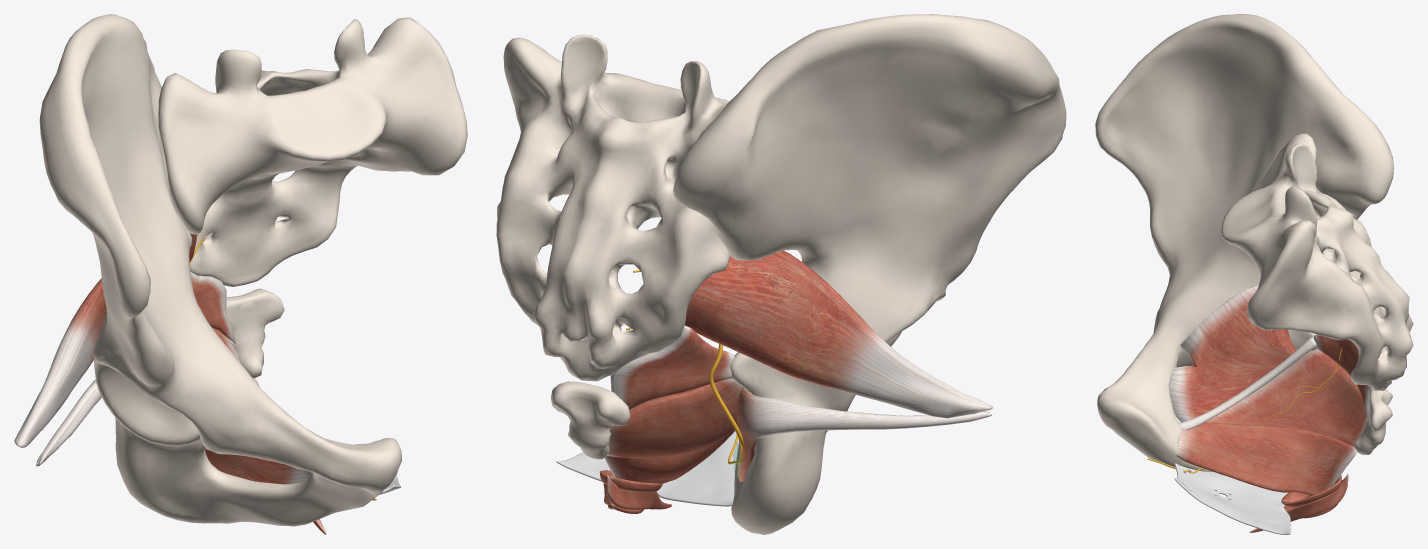
File: pelvic-floor-perineum.glb
3 views of the same model, side by side, from view 1: azimuth 30°, elevation 25°; view 2: azimuth 150°, elevation 25°; view 3: azimuth 270°, elevation 25° (orthographic). The views are drawn at different scales.
Visible parts, largest first — view 1: Hip bone.r, Sacrum, Piriformis muscle.r, Obturator internus.r, Coccyx, Coccygeus muscle.r; view 2: Hip bone.r, Sacrum, Piriformis muscle.r, Illiococcygeus (Levator Ani).r, Obturator internus.r, Coccygeus muscle.r, Perineal membrane, Coccyx, Pubo-rectalis muscle / Pubococcygeus (Levator Ani).r, Superficial part of external anal sphincter, Pudendal nerve.r; view 3: Hip bone.r, Sacrum, Pubo-rectalis muscle / Pubococcygeus (Levator Ani).r, Obturator internus.r, Illiococcygeus (Levator Ani).r, Perineal membrane, Coccyx, Tendinous arch of levator ani.r, Coccygeus muscle.r, Superficial part of external anal sphincter, Deep part of external anal sphincter.
Part boxes in pixels (box(x1,y1,x2,y2)): Hip bone.r: box(39, 14, 401, 526); Sacrum: box(158, 17, 467, 286); Piriformis muscle.r: box(14, 233, 196, 447); Obturator internus.r: box(36, 380, 311, 484); Coccyx: box(226, 288, 284, 378); Coccygeus muscle.r: box(190, 272, 235, 343); Hip bone.r: box(673, 14, 1066, 534); Sacrum: box(496, 34, 731, 381); Piriformis muscle.r: box(684, 250, 992, 418); Illiococcygeus (Levator Ani).r: box(606, 378, 742, 457); Obturator internus.r: box(736, 387, 991, 481); Coccygeus muscle.r: box(610, 325, 734, 409); Perineal membrane: box(556, 431, 738, 506); Coccyx: box(551, 381, 630, 459); Pubo-rectalis muscle / Pubococcygeus (Levator Ani).r: box(604, 430, 734, 483); Superficial part of external anal sphincter: box(603, 474, 671, 509); Pudendal nerve.r: box(626, 270, 743, 464); Hip bone.r: box(1095, 14, 1393, 471); Sacrum: box(1221, 133, 1413, 390); Pubo-rectalis muscle / Pubococcygeus (Levator Ani).r: box(1176, 422, 1357, 495); Obturator internus.r: box(1168, 284, 1296, 422); Illiococcygeus (Levator Ani).r: box(1205, 349, 1366, 446); Perineal membrane: box(1174, 463, 1290, 534); Coccyx: box(1354, 389, 1392, 454); Tendinous arch of levator ani.r: box(1179, 337, 1316, 430); Coccygeus muscle.r: box(1314, 334, 1372, 420); Superficial part of external anal sphincter: box(1249, 473, 1348, 532); Deep part of external anal sphincter: box(1281, 475, 1341, 507).
Bounding box in the file's own units: 0.1966 × 0.2221 × 0.151.
8 materials, 3 textured.
